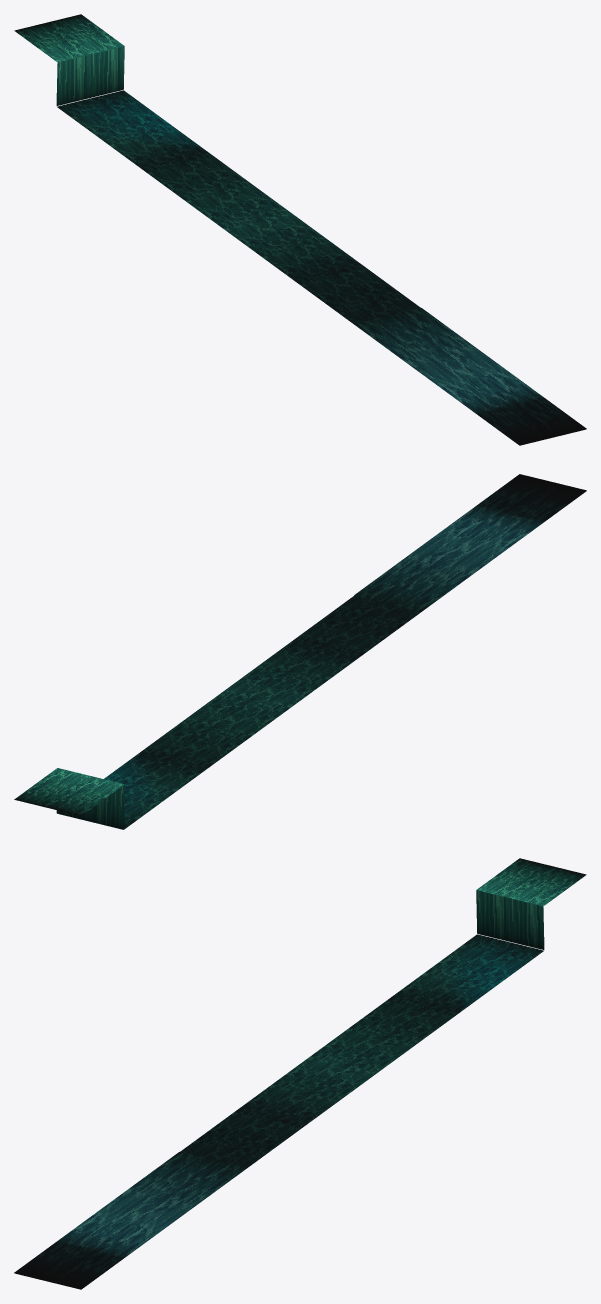
Rendered from ChicagoStealth_Alpha_85.glb.
3 views of the same model, one above another, from view 1: azimuth 30°, elevation 25°; view 2: azimuth 150°, elevation 25°; view 3: azimuth 330°, elevation 25° (orthographic).
Parts seen in each view (by area): view 1: ChicagoStealth_Alpha_85; view 2: ChicagoStealth_Alpha_85; view 3: ChicagoStealth_Alpha_85.
Part boxes in pixels (x1,y1,x2,y2): ChicagoStealth_Alpha_85: (14, 14, 586, 445); ChicagoStealth_Alpha_85: (14, 474, 586, 829); ChicagoStealth_Alpha_85: (14, 858, 586, 1289).
Size of the model in its own units: 34.25 by 21.88 by 446.
Materials: 1 (1 with a texture image).
